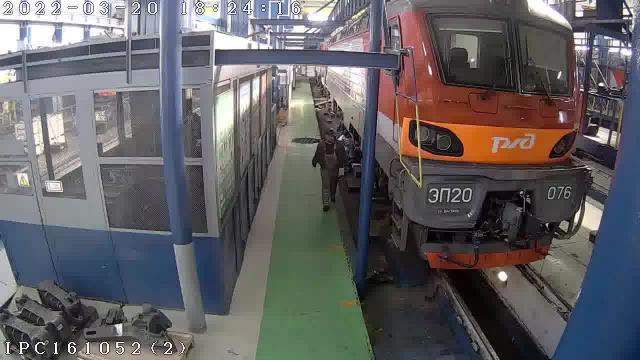person: (312, 128, 345, 211)
train: (375, 0, 590, 268)
